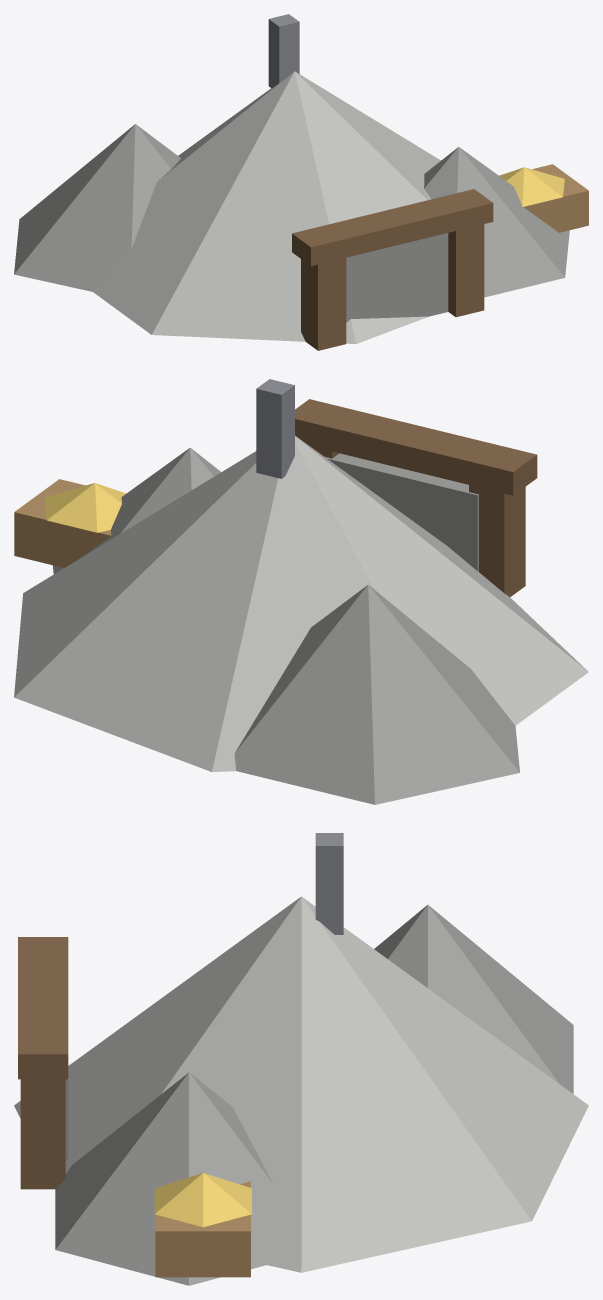
The model's file is GoldMine.fbx.
3 views of the same model, one above another, from view 1: azimuth 30°, elevation 25°; view 2: azimuth 150°, elevation 25°; view 3: azimuth 270°, elevation 25° (orthographic). The views are drawn at different scales.
Parts seen in each view (by area): view 1: GoldMine_Rock, GoldMine_Rock2, GoldMine_Rock3, GoldMine_Dark, GoldMine_Lintel, GoldMine_FrameL, GoldMine_FrameR, GoldMine_Cart, GoldMine_Shaft, GoldMine_Gold; view 2: GoldMine_Rock, GoldMine_Rock2, GoldMine_Lintel, GoldMine_Dark, GoldMine_FrameL, GoldMine_Cart, GoldMine_Rock3, GoldMine_Shaft, GoldMine_Gold; view 3: GoldMine_Rock, GoldMine_Rock3, GoldMine_Rock2, GoldMine_Lintel, GoldMine_Cart, GoldMine_FrameR, GoldMine_Gold, GoldMine_Shaft.
Boxes of the visible parts, x1,y1,x2,y2 form: GoldMine_Rock: (93, 71, 440, 343); GoldMine_Rock2: (14, 124, 180, 291); GoldMine_Rock3: (424, 147, 569, 297); GoldMine_Dark: (346, 233, 448, 322); GoldMine_Lintel: (292, 189, 493, 266); GoldMine_FrameL: (301, 258, 346, 350); GoldMine_FrameR: (448, 224, 484, 317); GoldMine_Cart: (524, 164, 588, 232); GoldMine_Shaft: (268, 14, 299, 88); GoldMine_Gold: (499, 167, 564, 206); GoldMine_Rock: (14, 435, 588, 771); GoldMine_Rock2: (234, 584, 519, 804); GoldMine_Lintel: (295, 399, 537, 495); GoldMine_Dark: (325, 453, 478, 571); GoldMine_FrameL: (469, 485, 525, 596); GoldMine_Cart: (14, 479, 111, 567); GoldMine_Rock3: (52, 447, 220, 573); GoldMine_Shaft: (256, 379, 294, 478); GoldMine_Gold: (44, 483, 126, 532); GoldMine_Rock: (14, 896, 588, 1272); GoldMine_Rock3: (55, 1072, 273, 1285); GoldMine_Rock2: (374, 905, 573, 1093); GoldMine_Lintel: (18, 937, 68, 1079); GoldMine_Cart: (155, 1181, 250, 1277); GoldMine_FrameR: (20, 1079, 65, 1189); GoldMine_Gold: (154, 1173, 251, 1227); GoldMine_Shaft: (315, 833, 343, 934).
Size of the model in its own units: 200 by 91 by 160.
